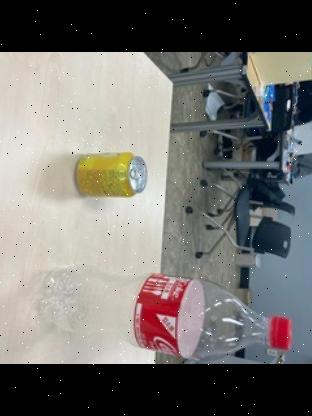Can: (70, 150, 154, 200)
Plastic Bottle: (34, 262, 298, 362)
